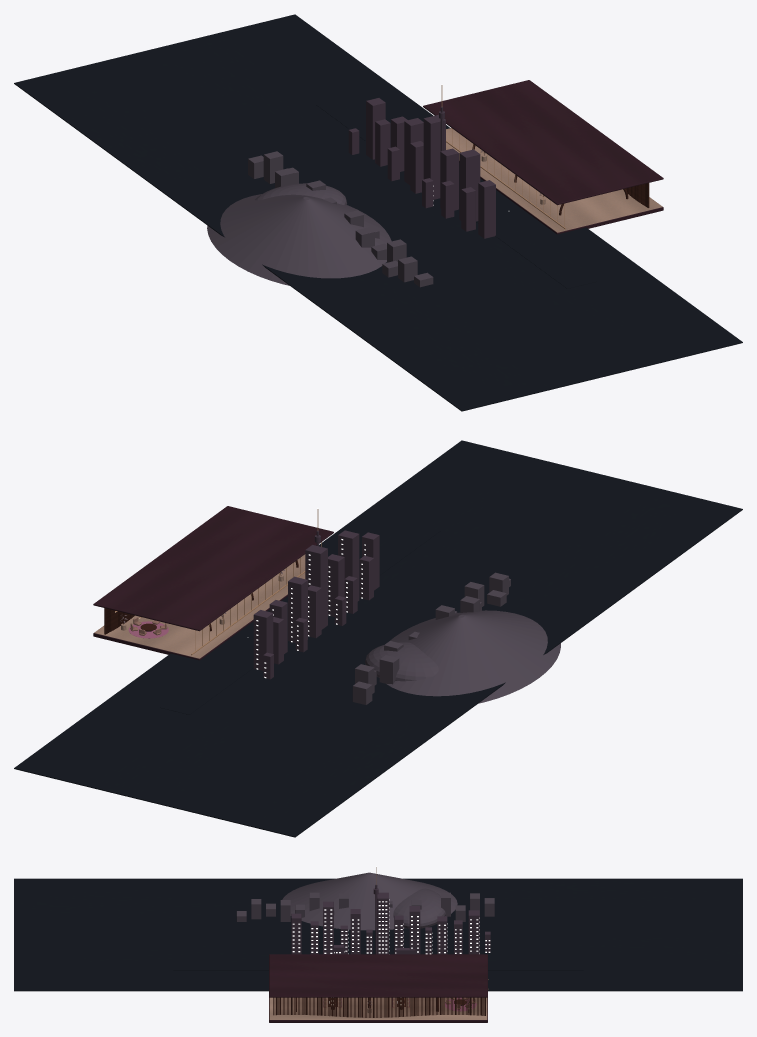
File: atelier.glb
3 renders of one model, top to bottom at view 1: azimuth 30°, elevation 25°; view 2: azimuth 150°, elevation 25°; view 3: azimuth 270°, elevation 25°, orthographic. The views are drawn at different scales.
Visible parts, largest first — view 1: Batched Waitemata dusk water, Batched Volcanic island silhouette, Batched Warm plum plaster, Batched Auckland waterfront mass, Batched Rose limestone; view 2: Batched Waitemata dusk water, Batched Warm plum plaster, Batched Volcanic island silhouette, Batched Auckland waterfront mass, Batched Rose limestone; view 3: Batched Waitemata dusk water, Batched Warm plum plaster, Batched Volcanic island silhouette, Batched Auckland waterfront mass, Batched Smoked walnut grain, Batched Rose limestone, Batched Harbour city light.
Boxes of the visible parts, bbox=[...] form: Batched Waitemata dusk water: bbox=[14, 14, 742, 411]; Batched Volcanic island silhouette: bbox=[207, 151, 433, 287]; Batched Warm plum plaster: bbox=[423, 80, 663, 234]; Batched Auckland waterfront mass: bbox=[348, 98, 495, 238]; Batched Rose limestone: bbox=[446, 128, 662, 232]; Batched Waitemata dusk water: bbox=[14, 440, 742, 837]; Batched Warm plum plaster: bbox=[93, 506, 333, 660]; Batched Volcanic island silhouette: bbox=[352, 572, 560, 704]; Batched Auckland waterfront mass: bbox=[253, 530, 379, 679]; Batched Rose limestone: bbox=[94, 554, 305, 658]; Batched Waitemata dusk water: bbox=[14, 878, 742, 991]; Batched Warm plum plaster: bbox=[269, 954, 487, 1022]; Batched Volcanic island silhouette: bbox=[236, 872, 494, 930]; Batched Auckland waterfront mass: bbox=[291, 884, 490, 954]; Batched Smoked walnut grain: bbox=[273, 997, 485, 1017]; Batched Rose limestone: bbox=[269, 997, 487, 1019]; Batched Harbour city light: bbox=[292, 866, 490, 954].
Bounding box in the file's own units: 76.96 × 24.88 × 160.
Materials: 13 (5 with a texture image).
